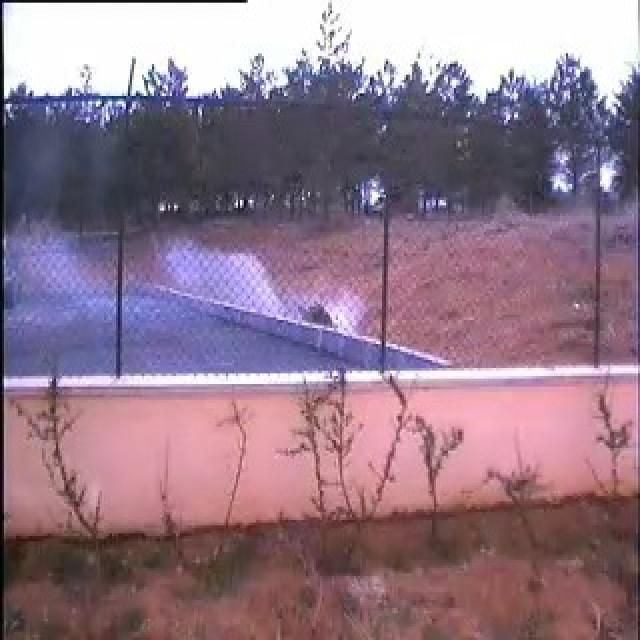smoke: (60, 211, 356, 375)
